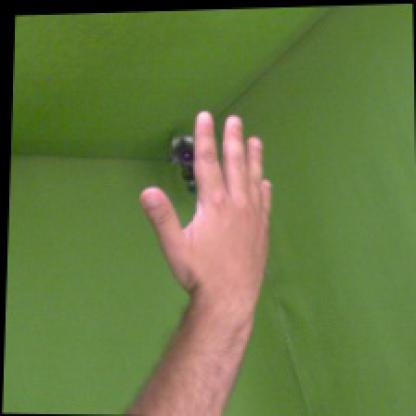Hand: (140, 111, 273, 319)
